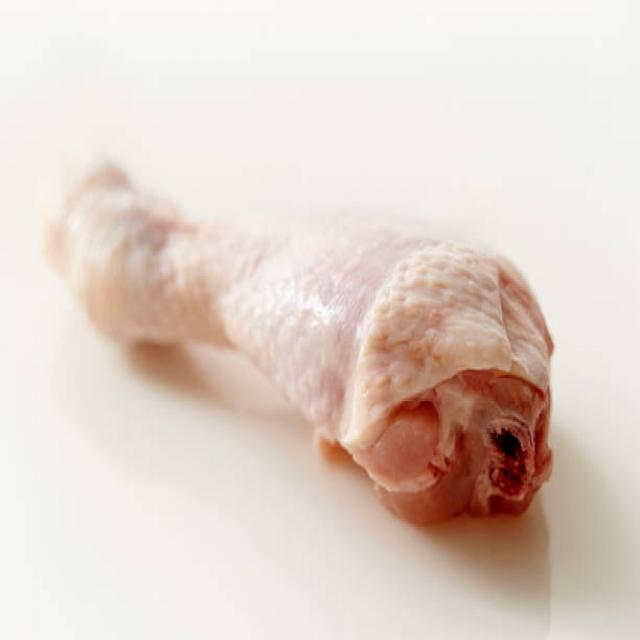Chicken: (46, 152, 568, 534)
